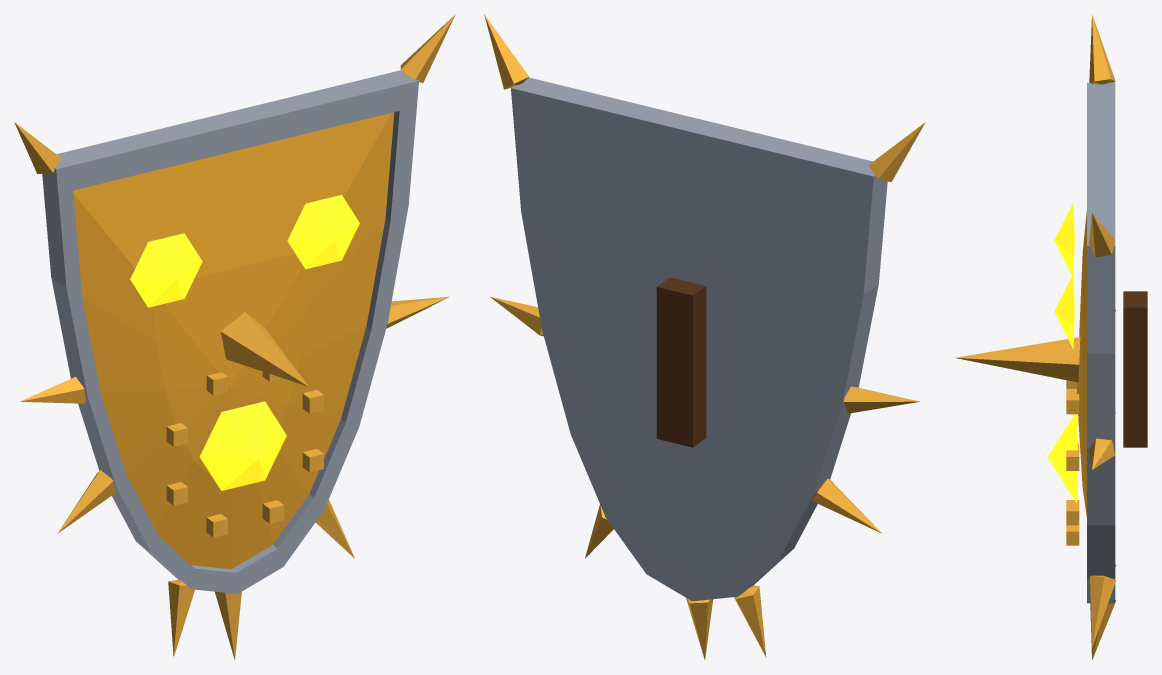
File: shield_spiked_legendary.glb
The picture shows the model from 3 angles, left to right: view 1: azimuth 30°, elevation 25°; view 2: azimuth 150°, elevation 25°; view 3: azimuth 270°, elevation 25°; orthographic projection. The views are drawn at different scales.
Visible parts, largest first — view 1: shield_spiked_legendary_export; view 2: shield_spiked_legendary_export; view 3: shield_spiked_legendary_export.
Part boxes in pixels (x1,y1,x2,y2): shield_spiked_legendary_export: (14, 14, 455, 659); shield_spiked_legendary_export: (484, 14, 925, 659); shield_spiked_legendary_export: (954, 14, 1147, 660).
Bounding box in the file's own units: 73.03 × 93.69 × 30.
